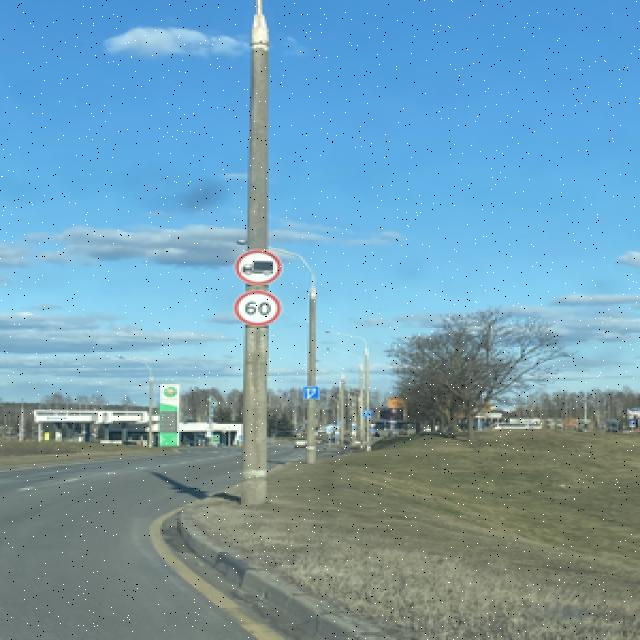Speedlimit: (233, 288, 282, 326)
